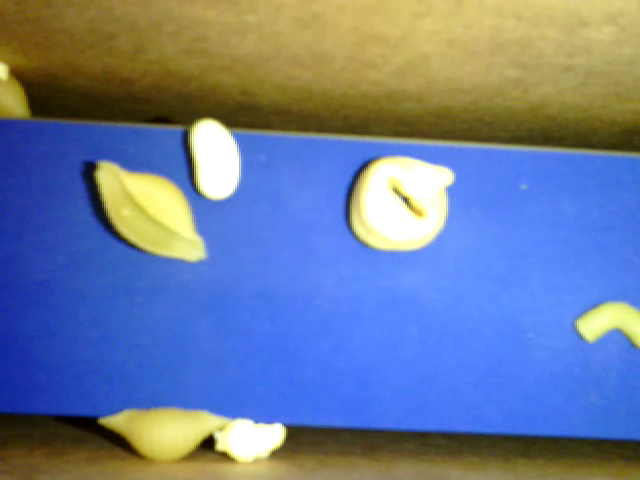elbow: (576, 295, 638, 345)
shell: (93, 160, 206, 260), (96, 406, 230, 466)
tortellini: (347, 155, 454, 254)
